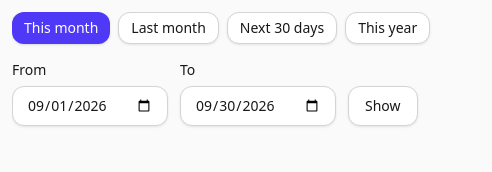
Scenario: PeriodPickerComponent › refuses a custom range of 367 days
Type "2026-01-01" into the date field labelled "From" at (90, 106), box [12, 86, 168, 126]
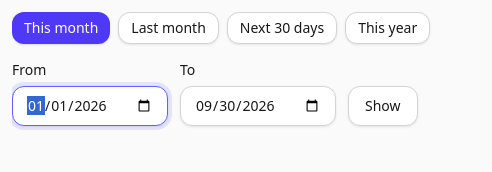
Type "2027-01-02" into the date field labelled "To" at (258, 106), box [180, 86, 336, 126]
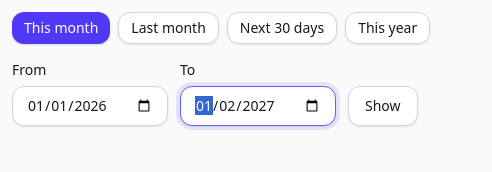
Click the button "Show" at (383, 106), box [348, 86, 418, 126]
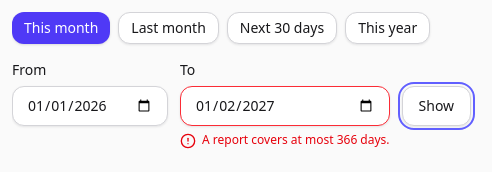
Expected: the text "A report covers at most 366 days." is shown, [180, 132, 390, 149]
